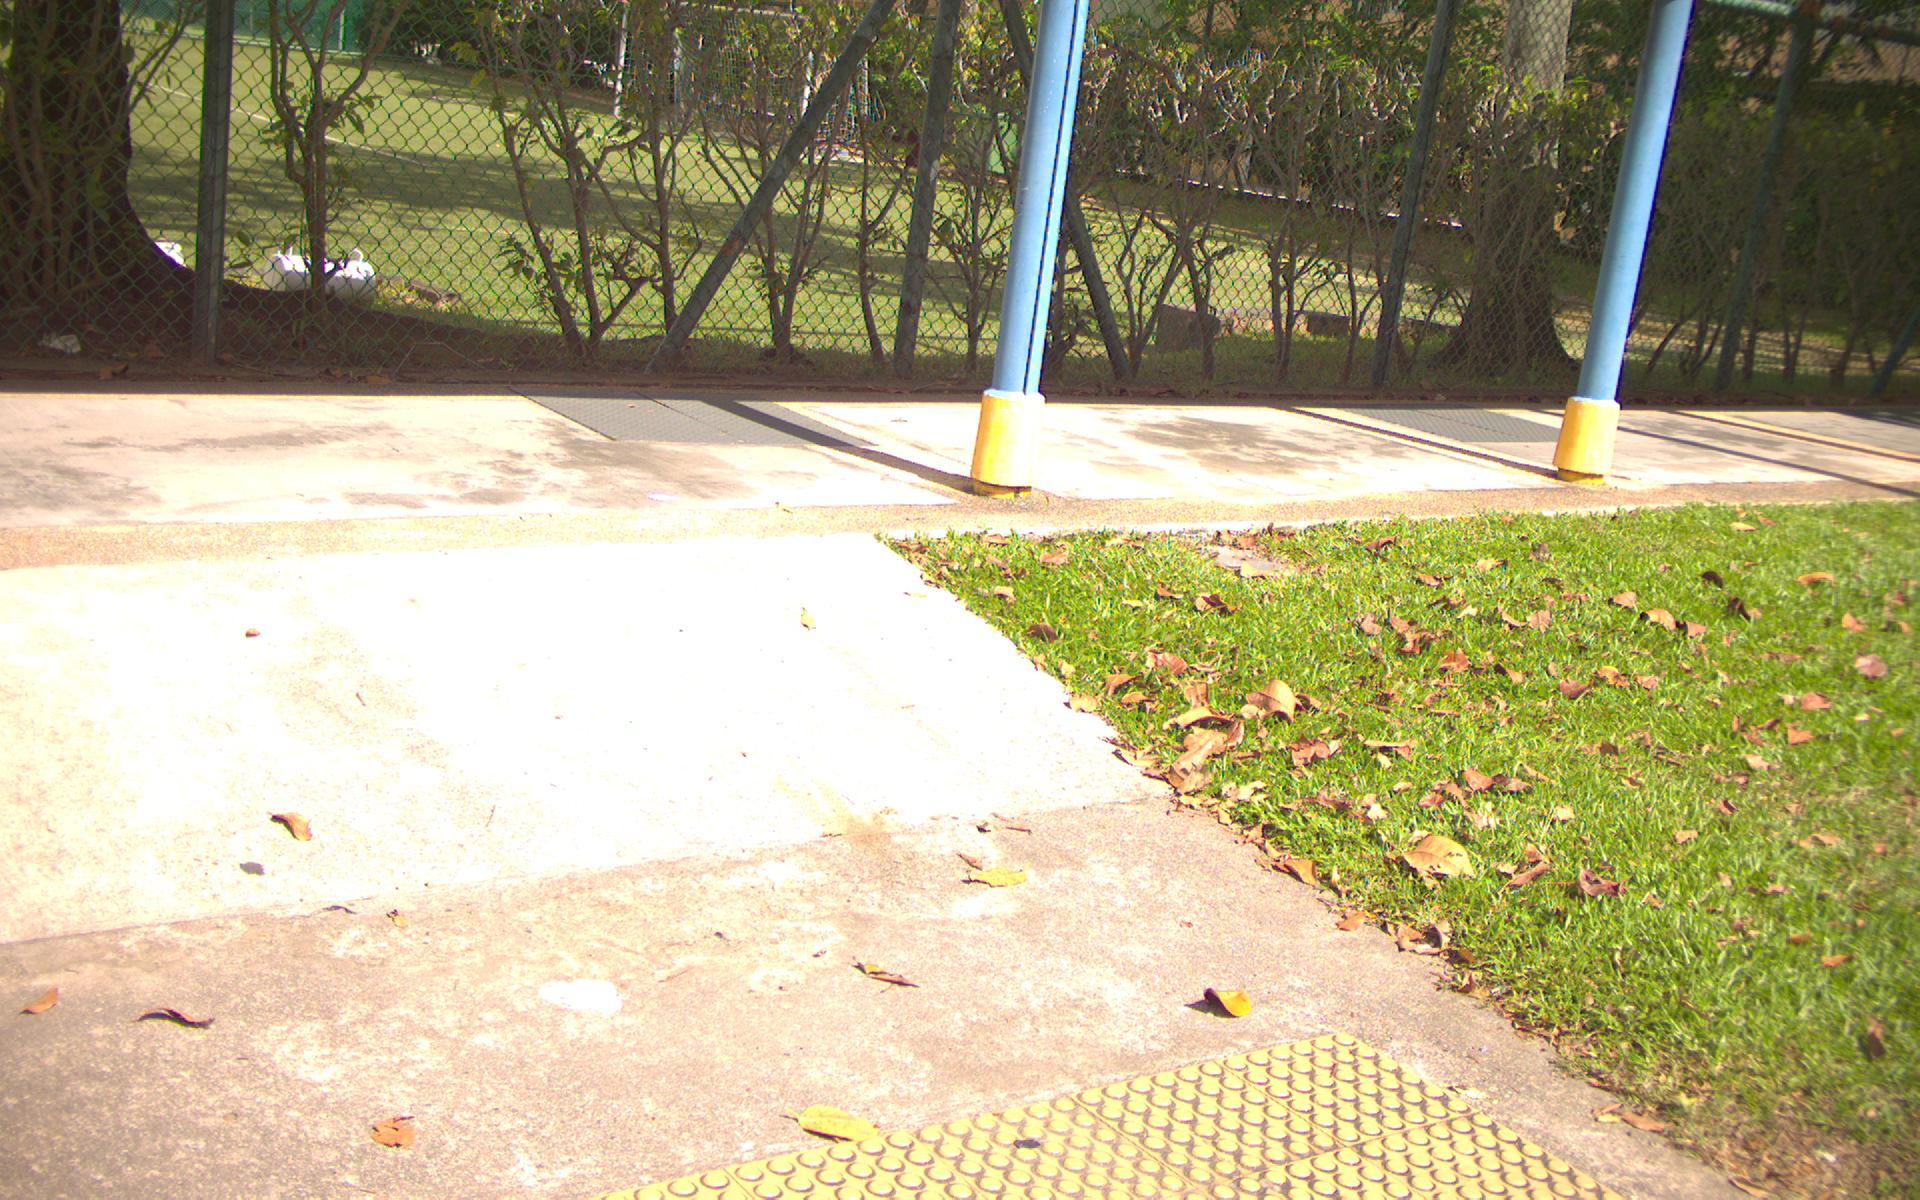pathway_low: (6, 571, 934, 1200), (39, 395, 1884, 495)
road_turf_low: (1341, 529, 1920, 853)
